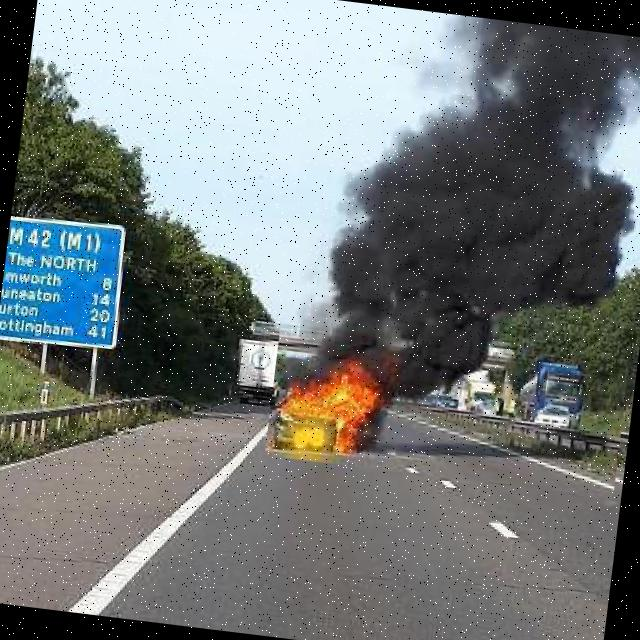fire: (264, 0, 640, 498)
